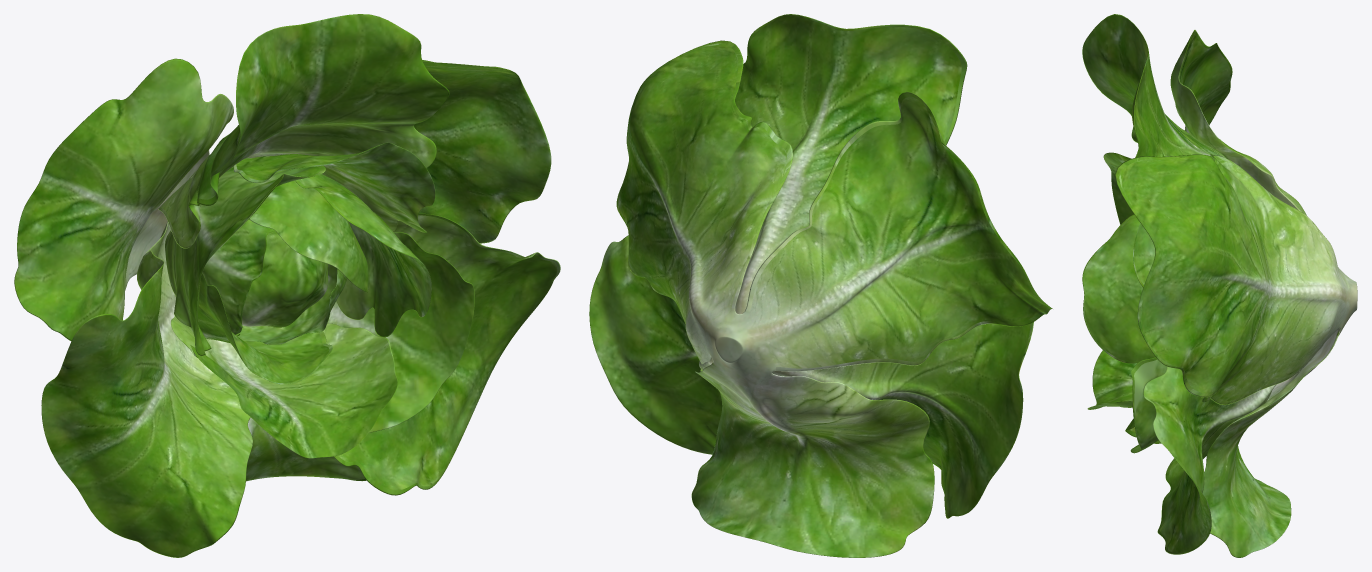
The model's file is Lettuce.glb.
The picture shows the model from 3 angles, left to right: view 1: azimuth 30°, elevation 25°; view 2: azimuth 150°, elevation 25°; view 3: azimuth 270°, elevation 25°; orthographic projection. The views are drawn at different scales.
Parts seen in each view (by area): view 1: Node1; view 2: Node1; view 3: Node1.
Part boxes in pixels (x1,y1,x2,y2): Node1: (14, 14, 560, 557); Node1: (589, 14, 1052, 557); Node1: (1082, 14, 1357, 557).
Bounding box in the file's own units: 40.44 × 40.06 × 21.14.
Materials: 1 (1 with a texture image).
